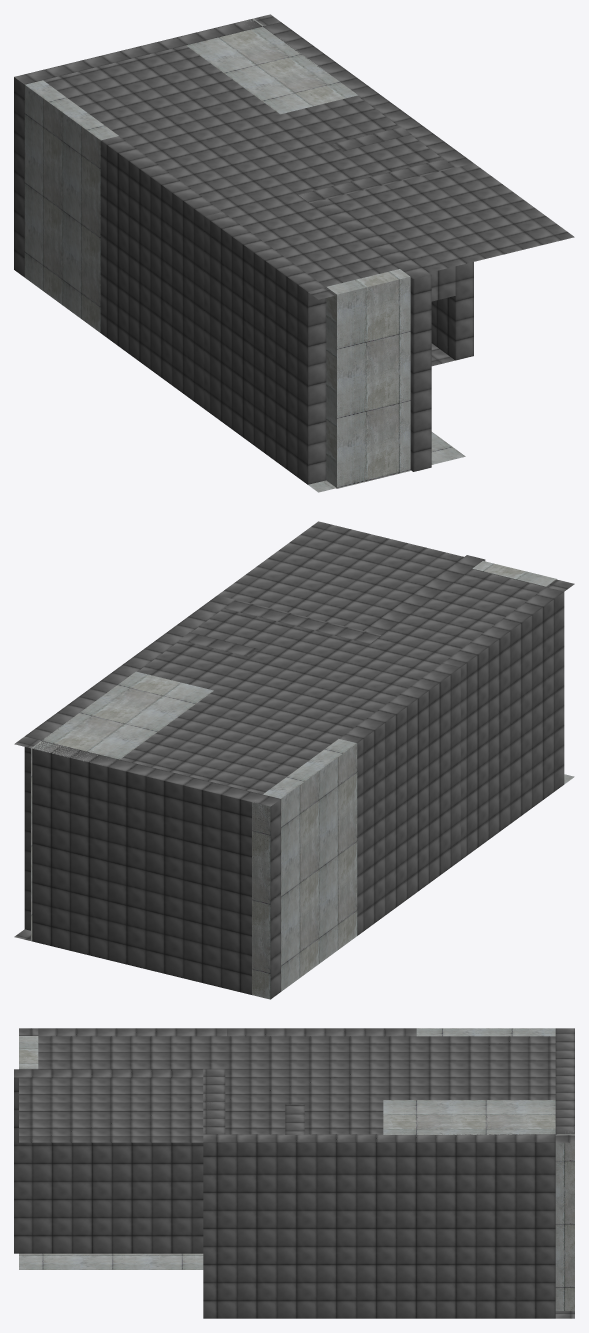
The model's file is Level_27.fbx.
The picture shows the model from 3 angles, top to bottom: view 1: azimuth 30°, elevation 25°; view 2: azimuth 150°, elevation 25°; view 3: azimuth 270°, elevation 25°; orthographic projection. The views are drawn at different scales.
Visible parts, largest first — view 1: NoTeleport.016, Wall.017; view 2: NoTeleport.016, Wall.017; view 3: NoTeleport.016, Wall.017.
Boxes of the visible parts, x1,y1,x2,y2 form: NoTeleport.016: (14,14,574,484); Wall.017: (24,18,465,492); NoTeleport.016: (14,521,574,998); Wall.017: (31,561,574,999); NoTeleport.016: (14,1028,574,1318); Wall.017: (19,1028,574,1310).
Size of the model in its own units: 13.92 by 28.87 by 10.08.
